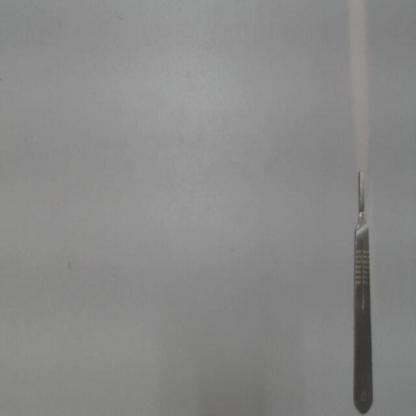No.4 BP Handle: (347, 161, 376, 415)
